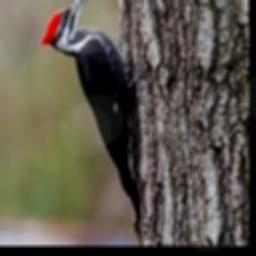Woodpecker: (40, 0, 145, 231)
